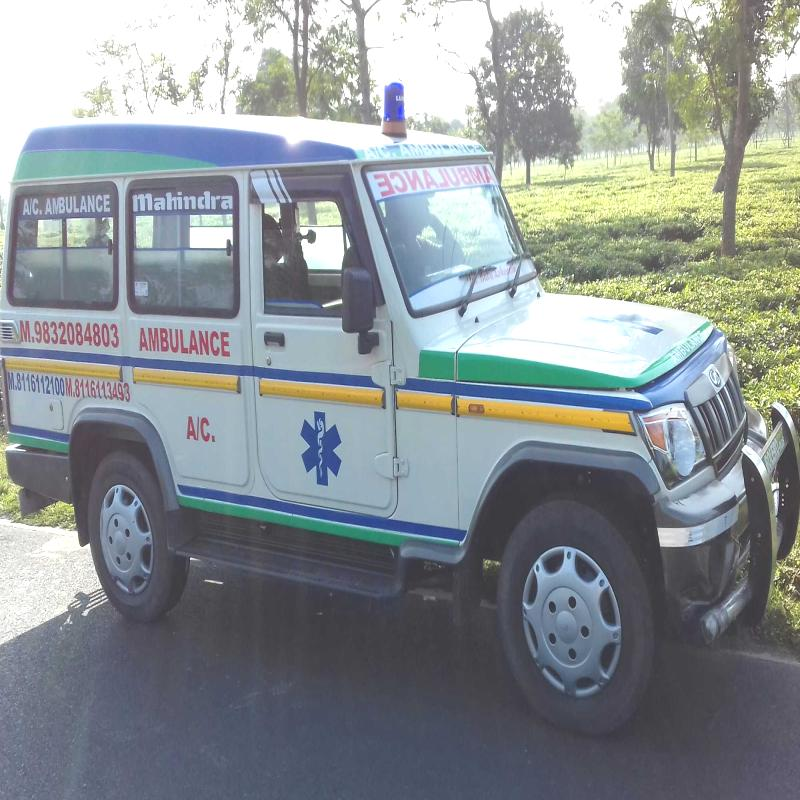ambulance: (8, 120, 768, 704)
